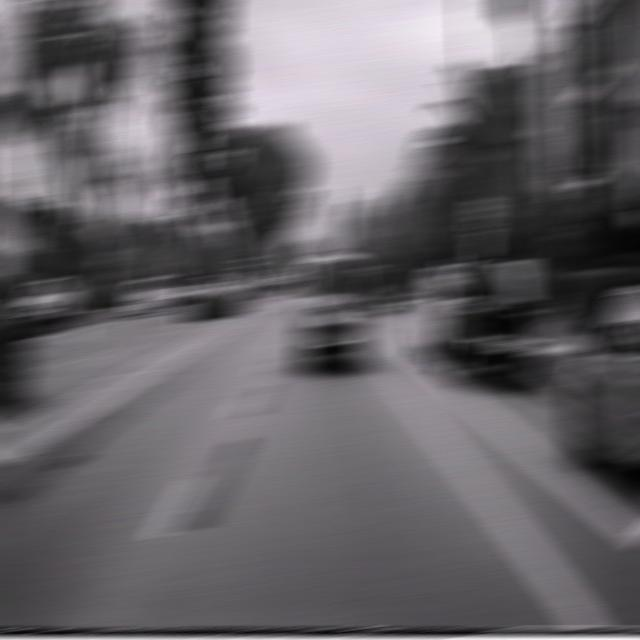speedLimit35: (467, 196, 497, 234)
